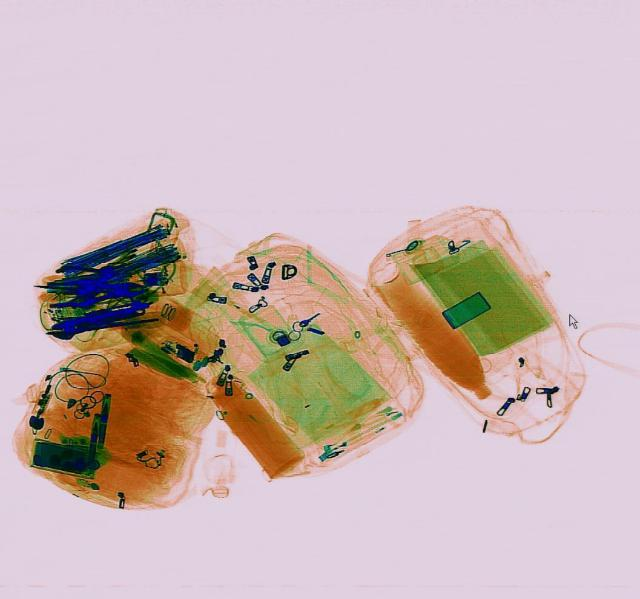Pliers: (51, 254, 126, 294), (51, 276, 140, 307)
Wrench: (45, 296, 147, 341)
